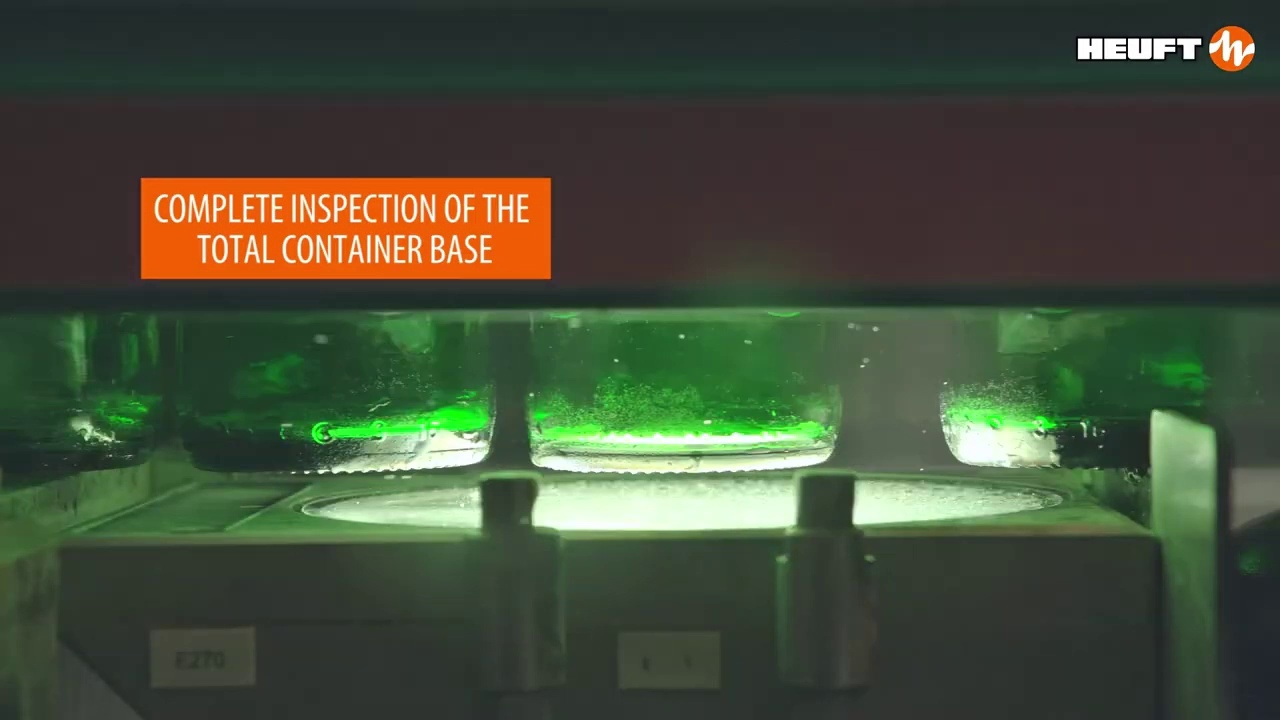bottle: (527, 303, 839, 474), (177, 317, 494, 475), (940, 309, 1214, 465)
